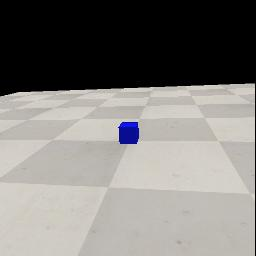box: (118, 122, 139, 144)
